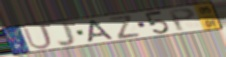5: (144, 10, 171, 35)
A: (87, 19, 116, 43)
J: (57, 21, 78, 47)
P: (167, 7, 198, 33)
U: (21, 24, 54, 50)
Z: (107, 14, 143, 41)
